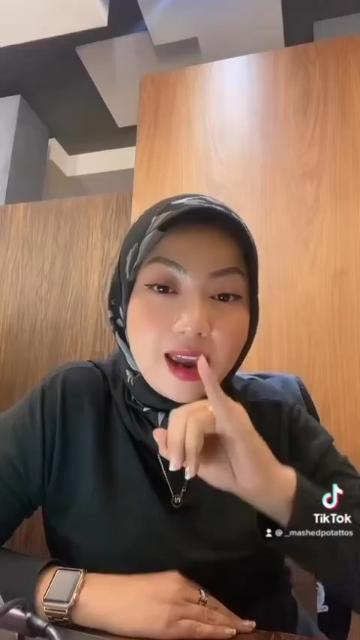J: (149, 358, 277, 492)
